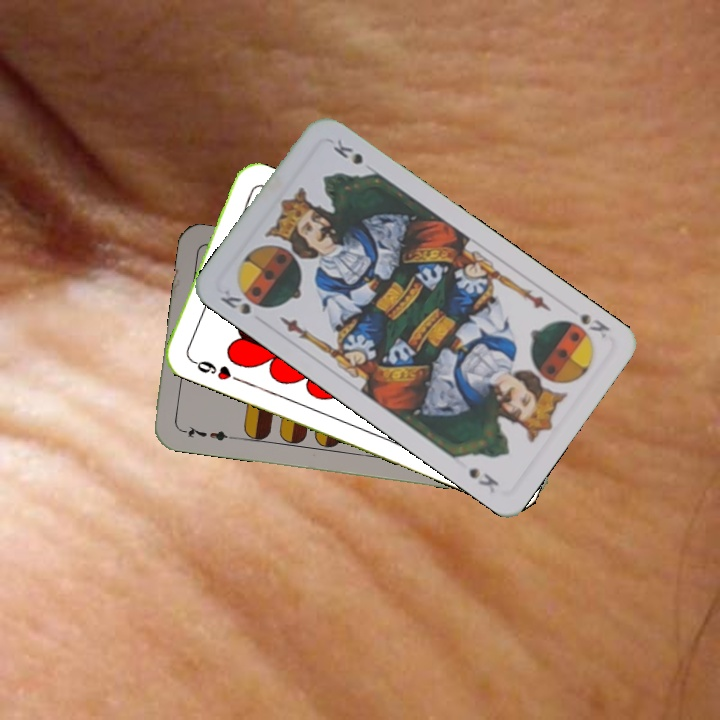E7: (177, 421, 236, 444)
H9: (186, 355, 234, 383)
SK: (559, 309, 613, 343), (216, 285, 254, 317)
